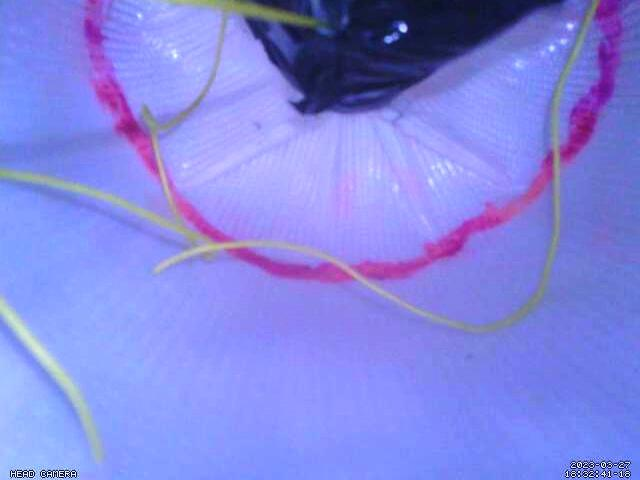head: (81, 0, 622, 284)
